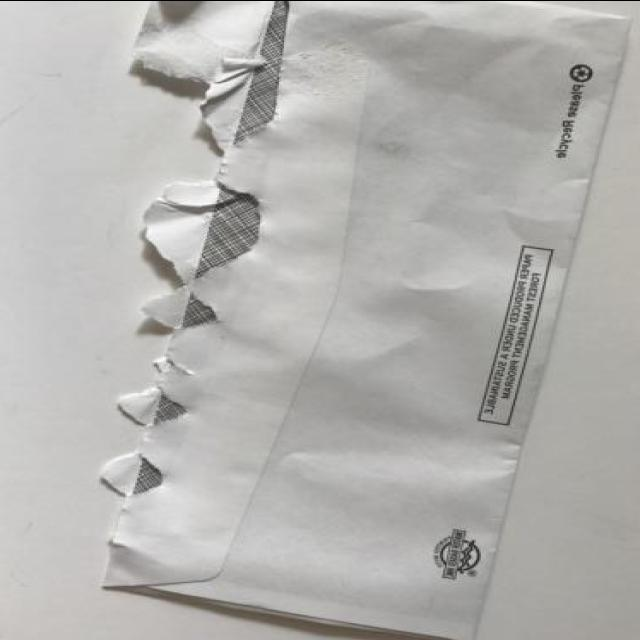kertas: (96, 0, 636, 640)
